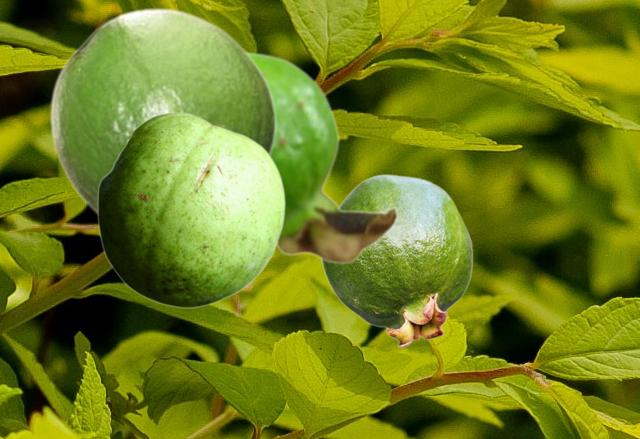guava: (48, 6, 276, 215), (97, 112, 284, 307), (249, 51, 398, 264), (321, 174, 472, 347)
